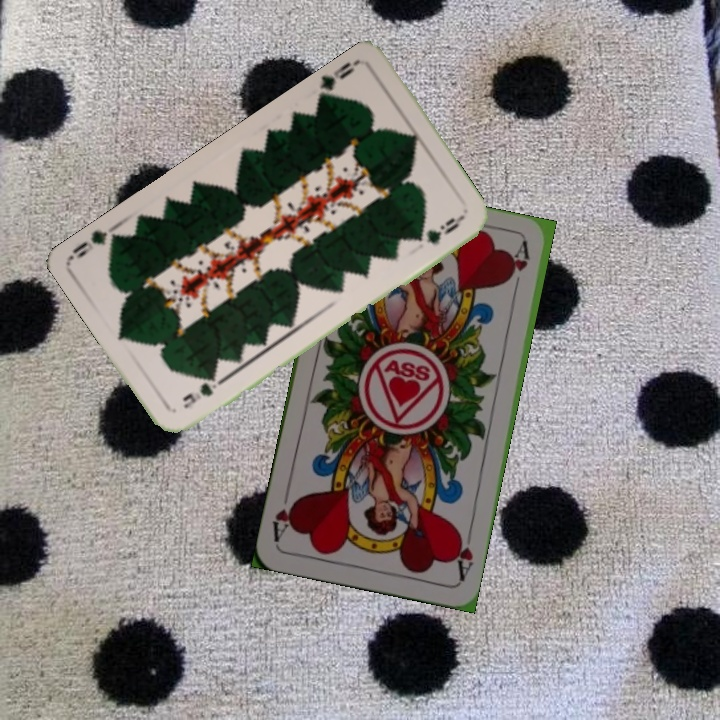G9: (313, 56, 361, 105), (178, 371, 225, 411)
HA: (449, 528, 476, 584)
